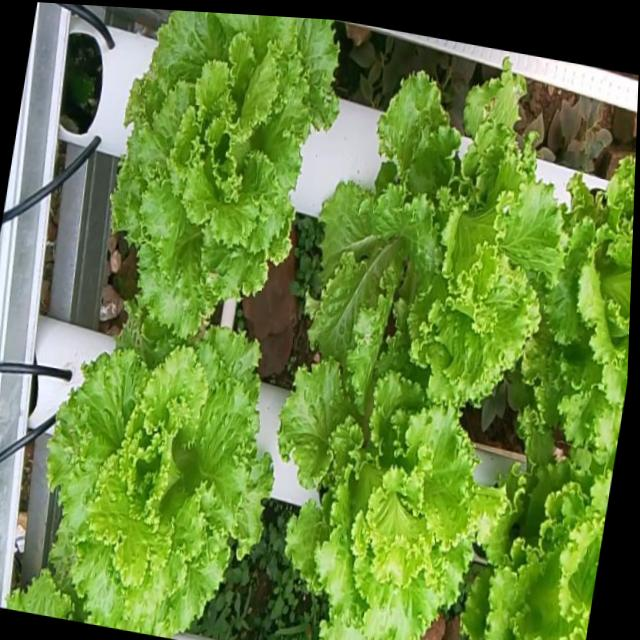Mature: (297, 56, 573, 410), (92, 9, 330, 357), (13, 307, 265, 631), (270, 343, 518, 640)
